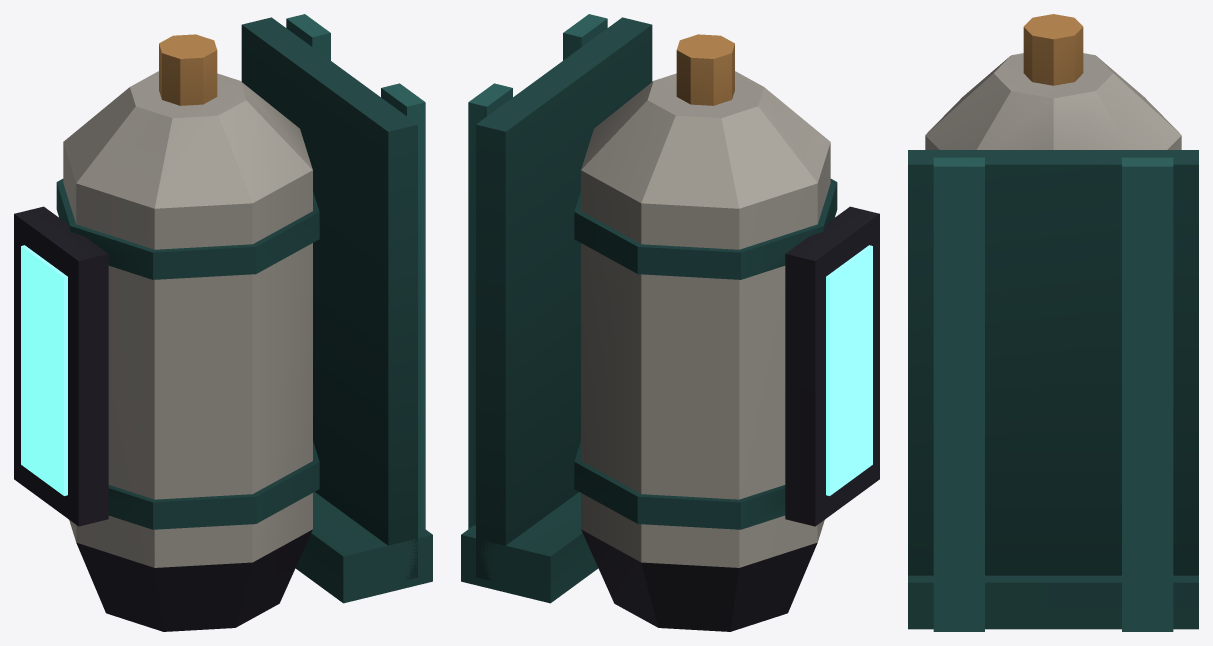
The picture shows the model from 3 angles, left to right: view 1: azimuth 30°, elevation 25°; view 2: azimuth 150°, elevation 25°; view 3: azimuth 270°, elevation 25°; orthographic projection.
Visible parts, largest first — view 1: body_pal_picketWhite, body_emi_tealLight; view 2: body_pal_picketWhite, body_emi_tealLight; view 3: body_pal_picketWhite.
Part boxes in pixels (box(x1,y1,x2,y2)): body_pal_picketWhite: box(14, 14, 432, 631); body_emi_tealLight: box(21, 245, 67, 495); body_pal_picketWhite: box(461, 14, 879, 631); body_emi_tealLight: box(826, 245, 872, 495); body_pal_picketWhite: box(908, 14, 1198, 631).
Bounding box in the file's own units: 0.4325 × 0.7 × 0.34.
